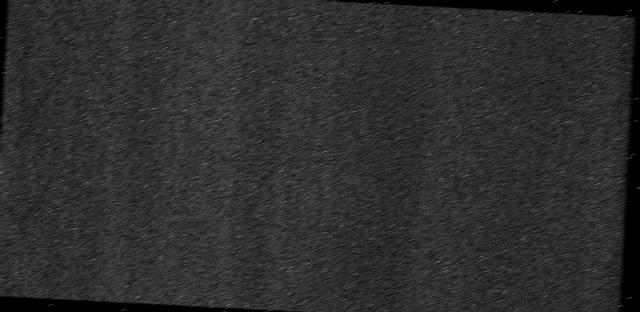water_spot: (0, 19, 76, 231)
